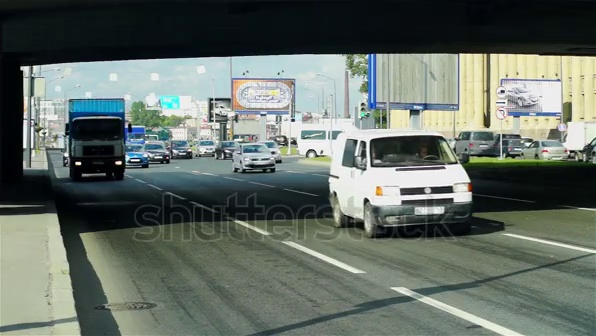licenseplate: (414, 207, 450, 222)
